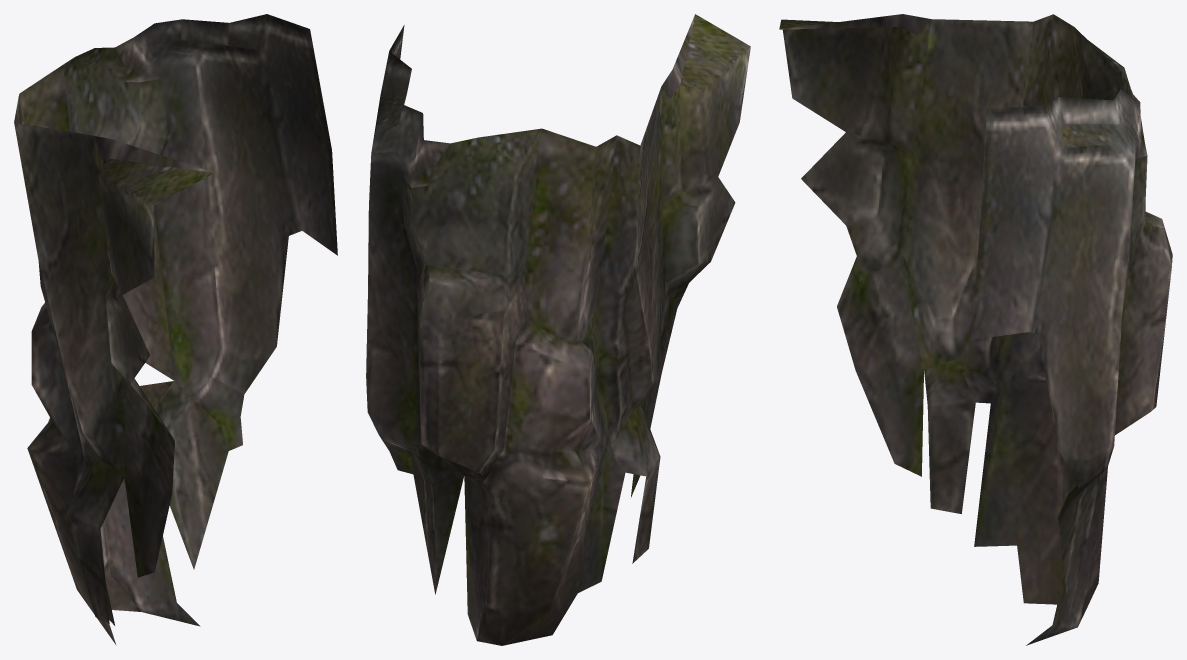
Rendered from S2_Build_XSC077_H5.FBX.
3 renders of one model, left to right at view 1: azimuth 30°, elevation 25°; view 2: azimuth 150°, elevation 25°; view 3: azimuth 270°, elevation 25°, orthographic. The views are drawn at different scales.
Parts seen in each view (by area): view 1: S2_Build_XSC077_H5; view 2: S2_Build_XSC077_H5; view 3: S2_Build_XSC077_H5.
Part boxes in pixels (x1,y1,x2,y2): S2_Build_XSC077_H5: (14, 14, 337, 645); S2_Build_XSC077_H5: (366, 14, 750, 645); S2_Build_XSC077_H5: (779, 14, 1172, 645).
Size of the model in its own units: 2737 by 5288 by 3249.
